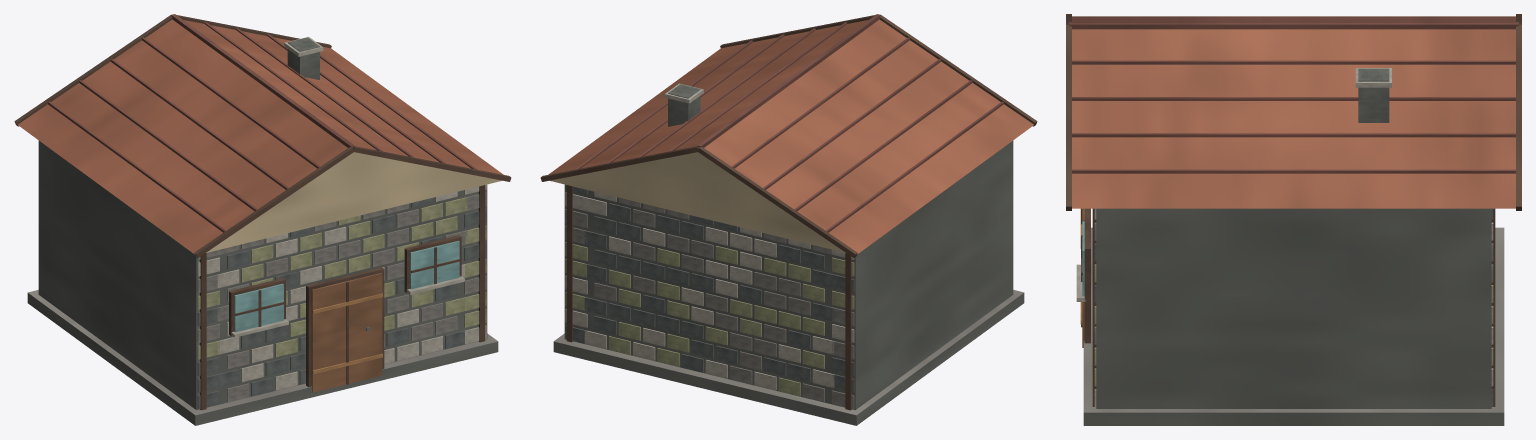
Rendered from house_stone.fbx.
3 renders of one model, left to right at view 1: azimuth 30°, elevation 25°; view 2: azimuth 150°, elevation 25°; view 3: azimuth 270°, elevation 25°, orthographic. The views are drawn at different scales.
Visible parts, largest first — view 1: house_stone; view 2: house_stone; view 3: house_stone.
Boxes of the visible parts, x1=… form: house_stone: x1=14, y1=14, x2=511, y2=425; house_stone: x1=540, y1=14, x2=1037, y2=425; house_stone: x1=1066, y1=14, x2=1521, y2=425.
Bounding box in the file's own units: 800 × 600 × 800.
2 materials, 2 textured.
